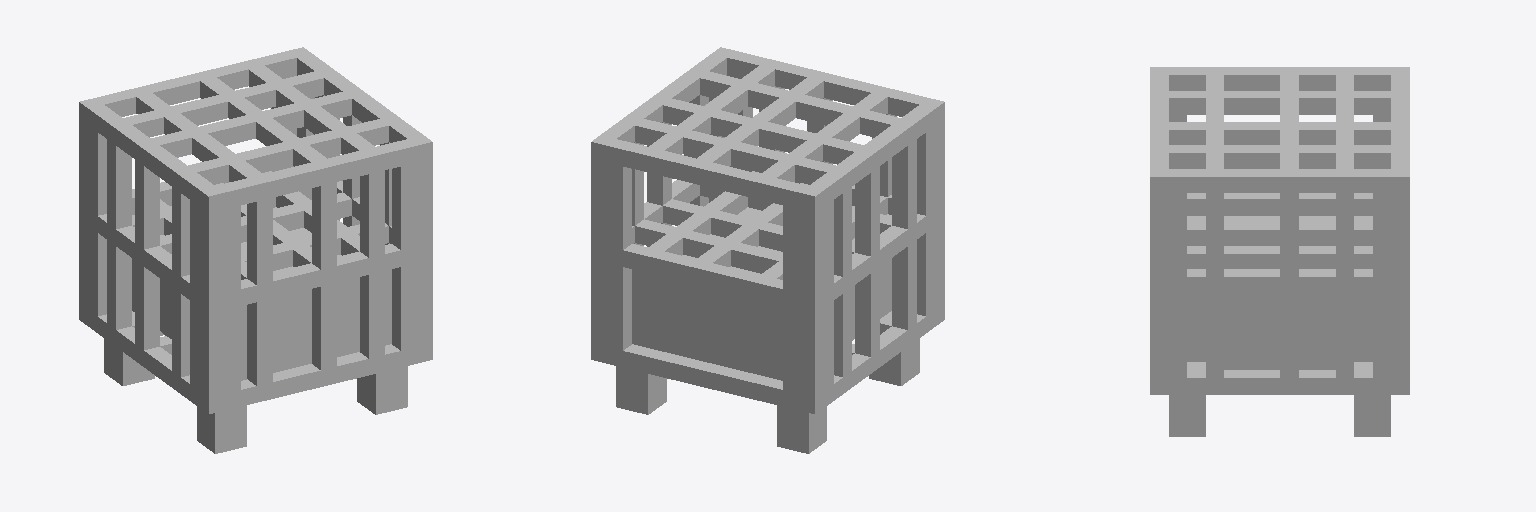
File: super_computer_one_slot.obj
3 renders of one model, left to right at view 1: azimuth 30°, elevation 25°; view 2: azimuth 150°, elevation 25°; view 3: azimuth 270°, elevation 25°, orthographic.
Parts seen in each view (by area): view 1: node_0_0_0.001; view 2: node_0_0_0.001; view 3: node_0_0_0.001.
Boxes of the visible parts, <box> form: node_0_0_0.001: <box>79,47,432,453</box>; node_0_0_0.001: <box>591,47,944,453</box>; node_0_0_0.001: <box>1150,67,1409,436</box>.
Size of the model in its own units: 0.875 by 1 by 0.875.